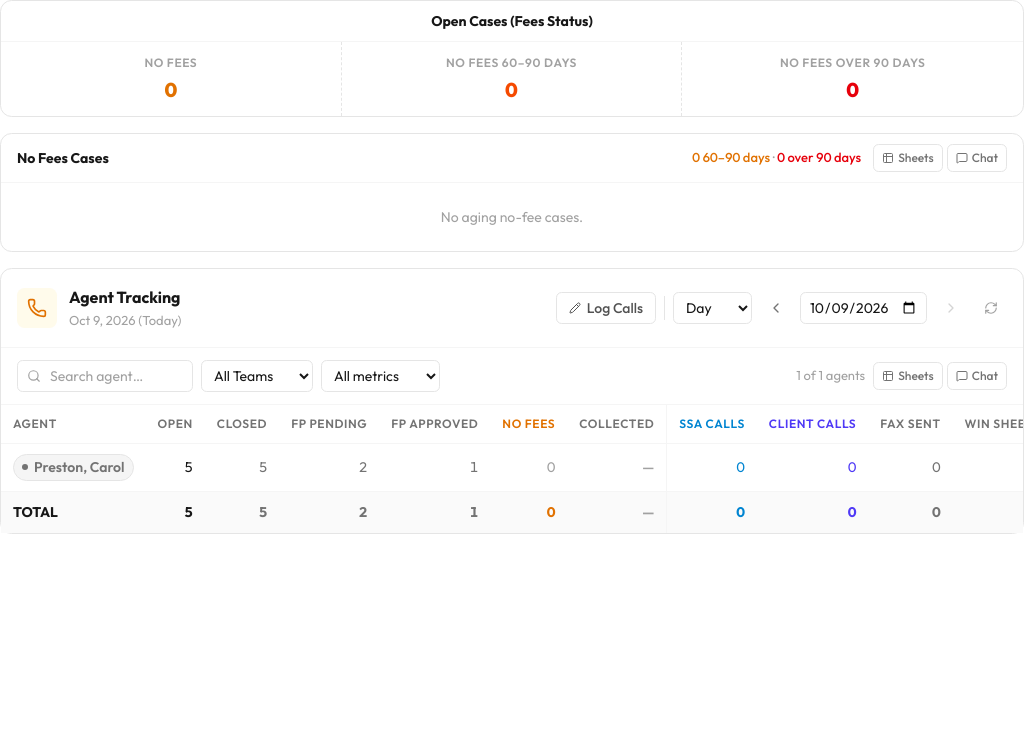
Test: ScoreboardTracker — daily-metrics save › shows an error message when the POST to /api/daily-metrics fails
The image size is (1024, 756).
Expected: the text "Preston, Carol" is shown, [34, 456, 124, 478]
Click the button "Log Calls" at (606, 308), box [556, 292, 656, 324]
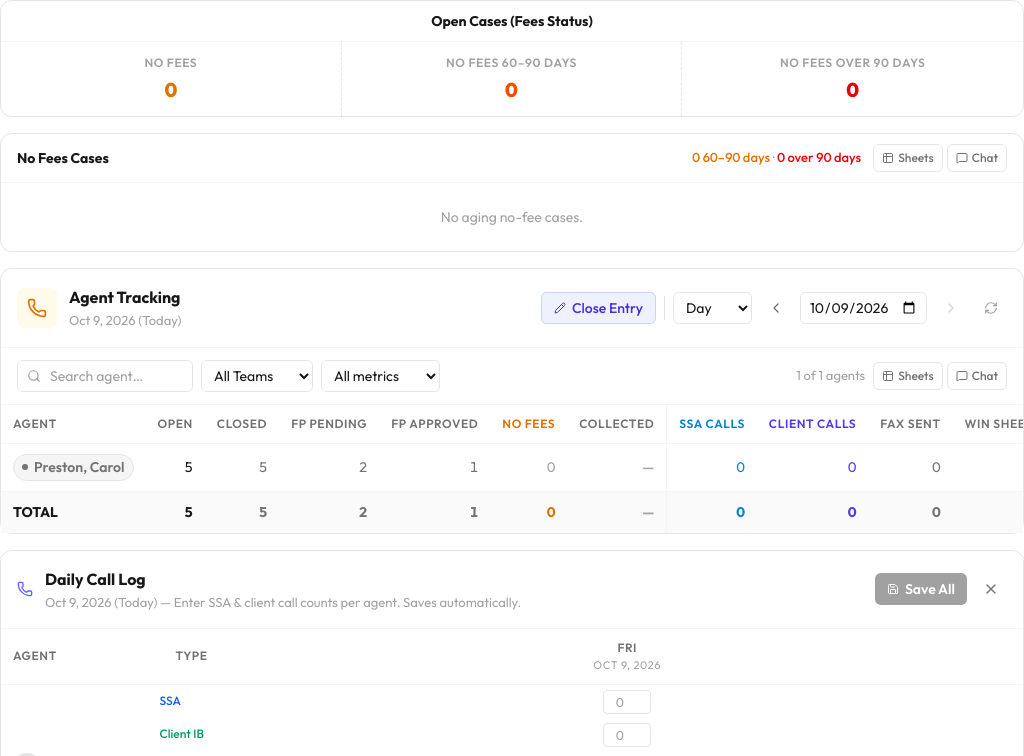
Now the heading "Daily Call Log" is shown, box [45, 568, 146, 588]
Type "3" into the 1st number field with placeholder "0" at (627, 702), box [603, 690, 651, 714]
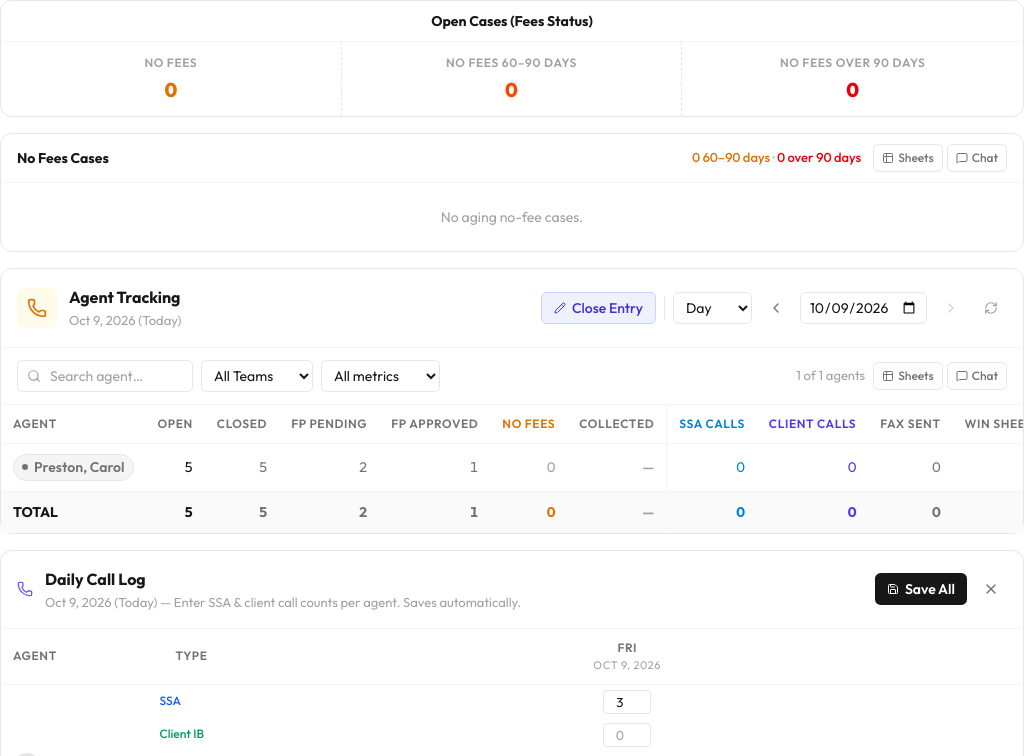
Click the button "Save All" at (921, 589), box [875, 573, 967, 605]
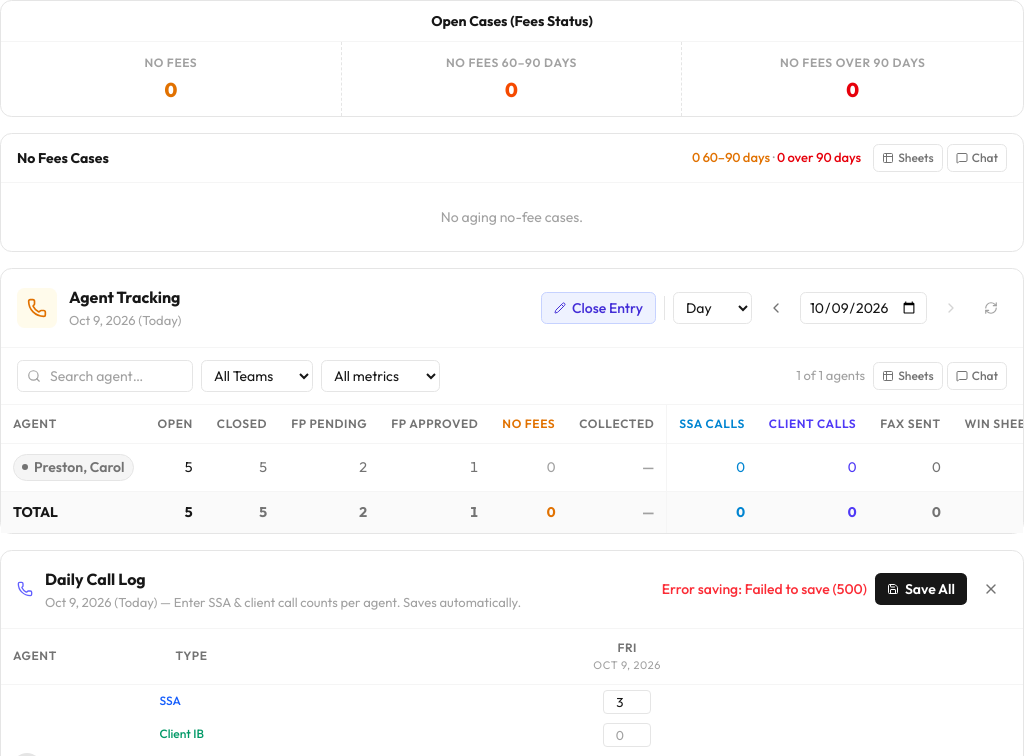
Now the message "Error saving: Failed to save (500)" is shown, box [662, 579, 867, 599]
Now the message shows "Error saving", box [662, 580, 867, 598]
